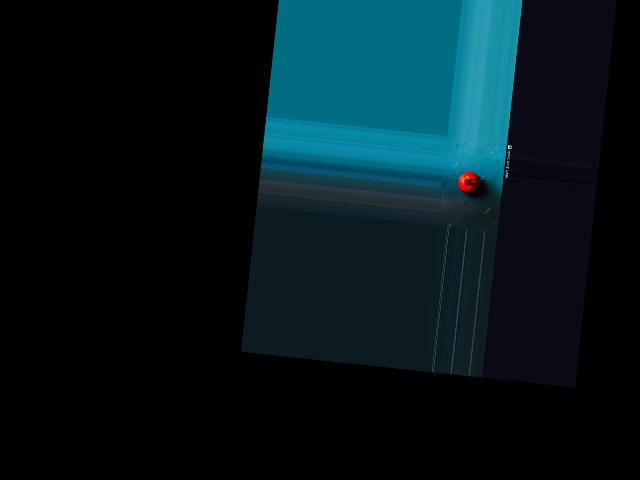tomato: (457, 171, 480, 194)
